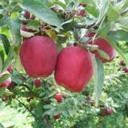apple: (53, 46, 93, 93)
